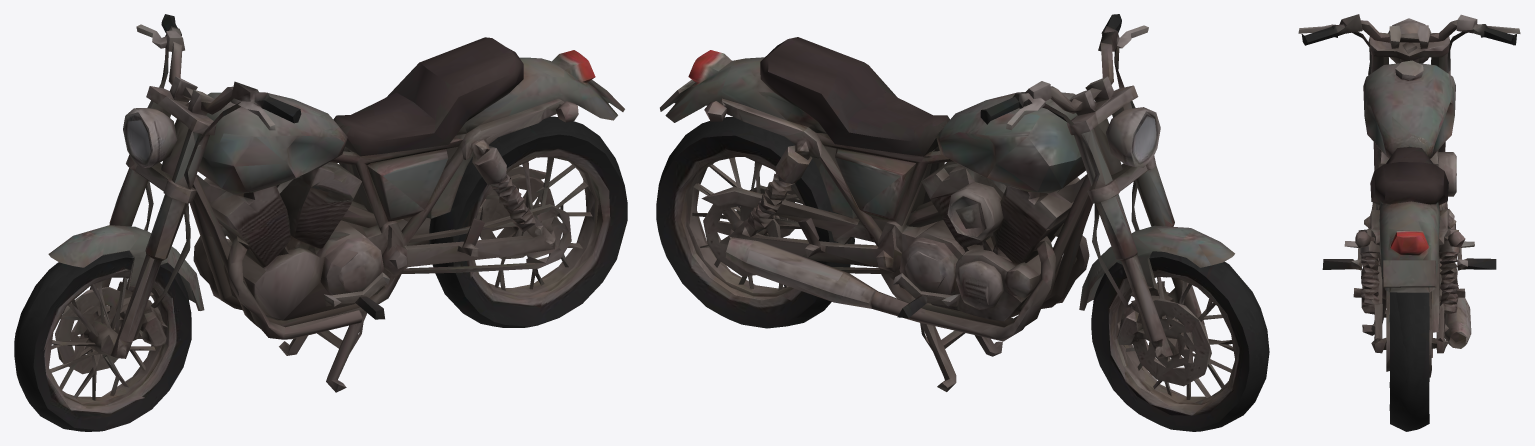
Rendered from motorcycle_b.glb.
The picture shows the model from 3 angles, left to right: view 1: azimuth 30°, elevation 25°; view 2: azimuth 150°, elevation 25°; view 3: azimuth 270°, elevation 25°; orthographic projection. The views are drawn at different scales.
Visible parts, largest first — view 1: body, wheel_2, wheel_1; view 2: body, wheel_1, wheel_2; view 3: body, wheel_2.
Part boxes in pixels (left/top/right/bottom): body: left=27, top=14, right=624, bottom=392; wheel_2: left=429, top=131, right=627, bottom=327; wheel_1: left=14, top=252, right=198, bottom=431; body: left=660, top=14, right=1258, bottom=391; wheel_1: left=1085, top=252, right=1269, bottom=431; wheel_2: left=656, top=131, right=857, bottom=328; body: left=1298, top=14, right=1520, bottom=384; wheel_2: left=1386, top=290, right=1433, bottom=431.
Bounding box in the file's own units: 2.1 × 1.14 × 0.8161.
Materials: 2 (2 with a texture image).
